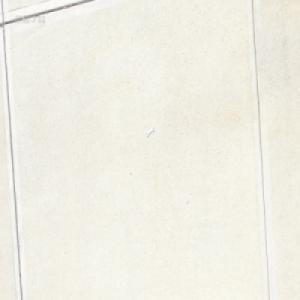Wrench: (145, 127, 154, 137)
